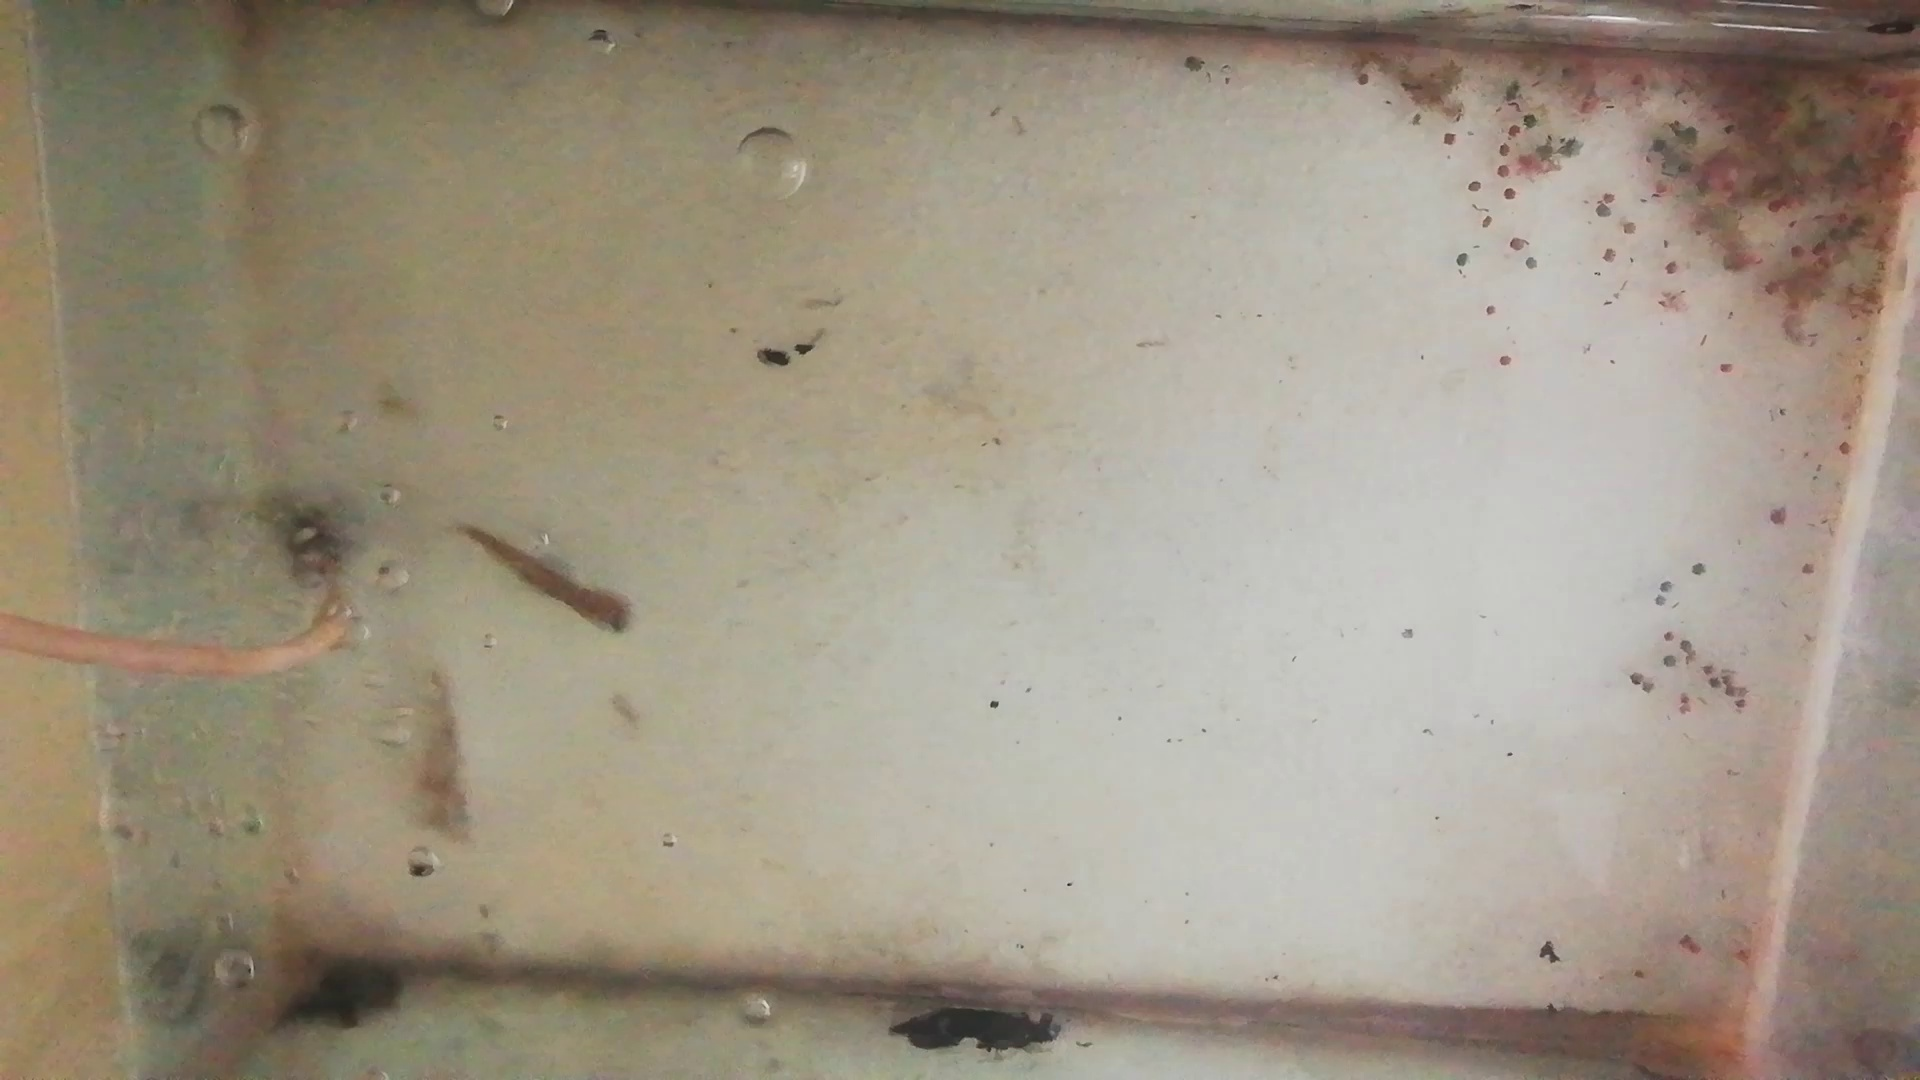fish: (460, 522, 636, 641), (405, 662, 472, 844)
